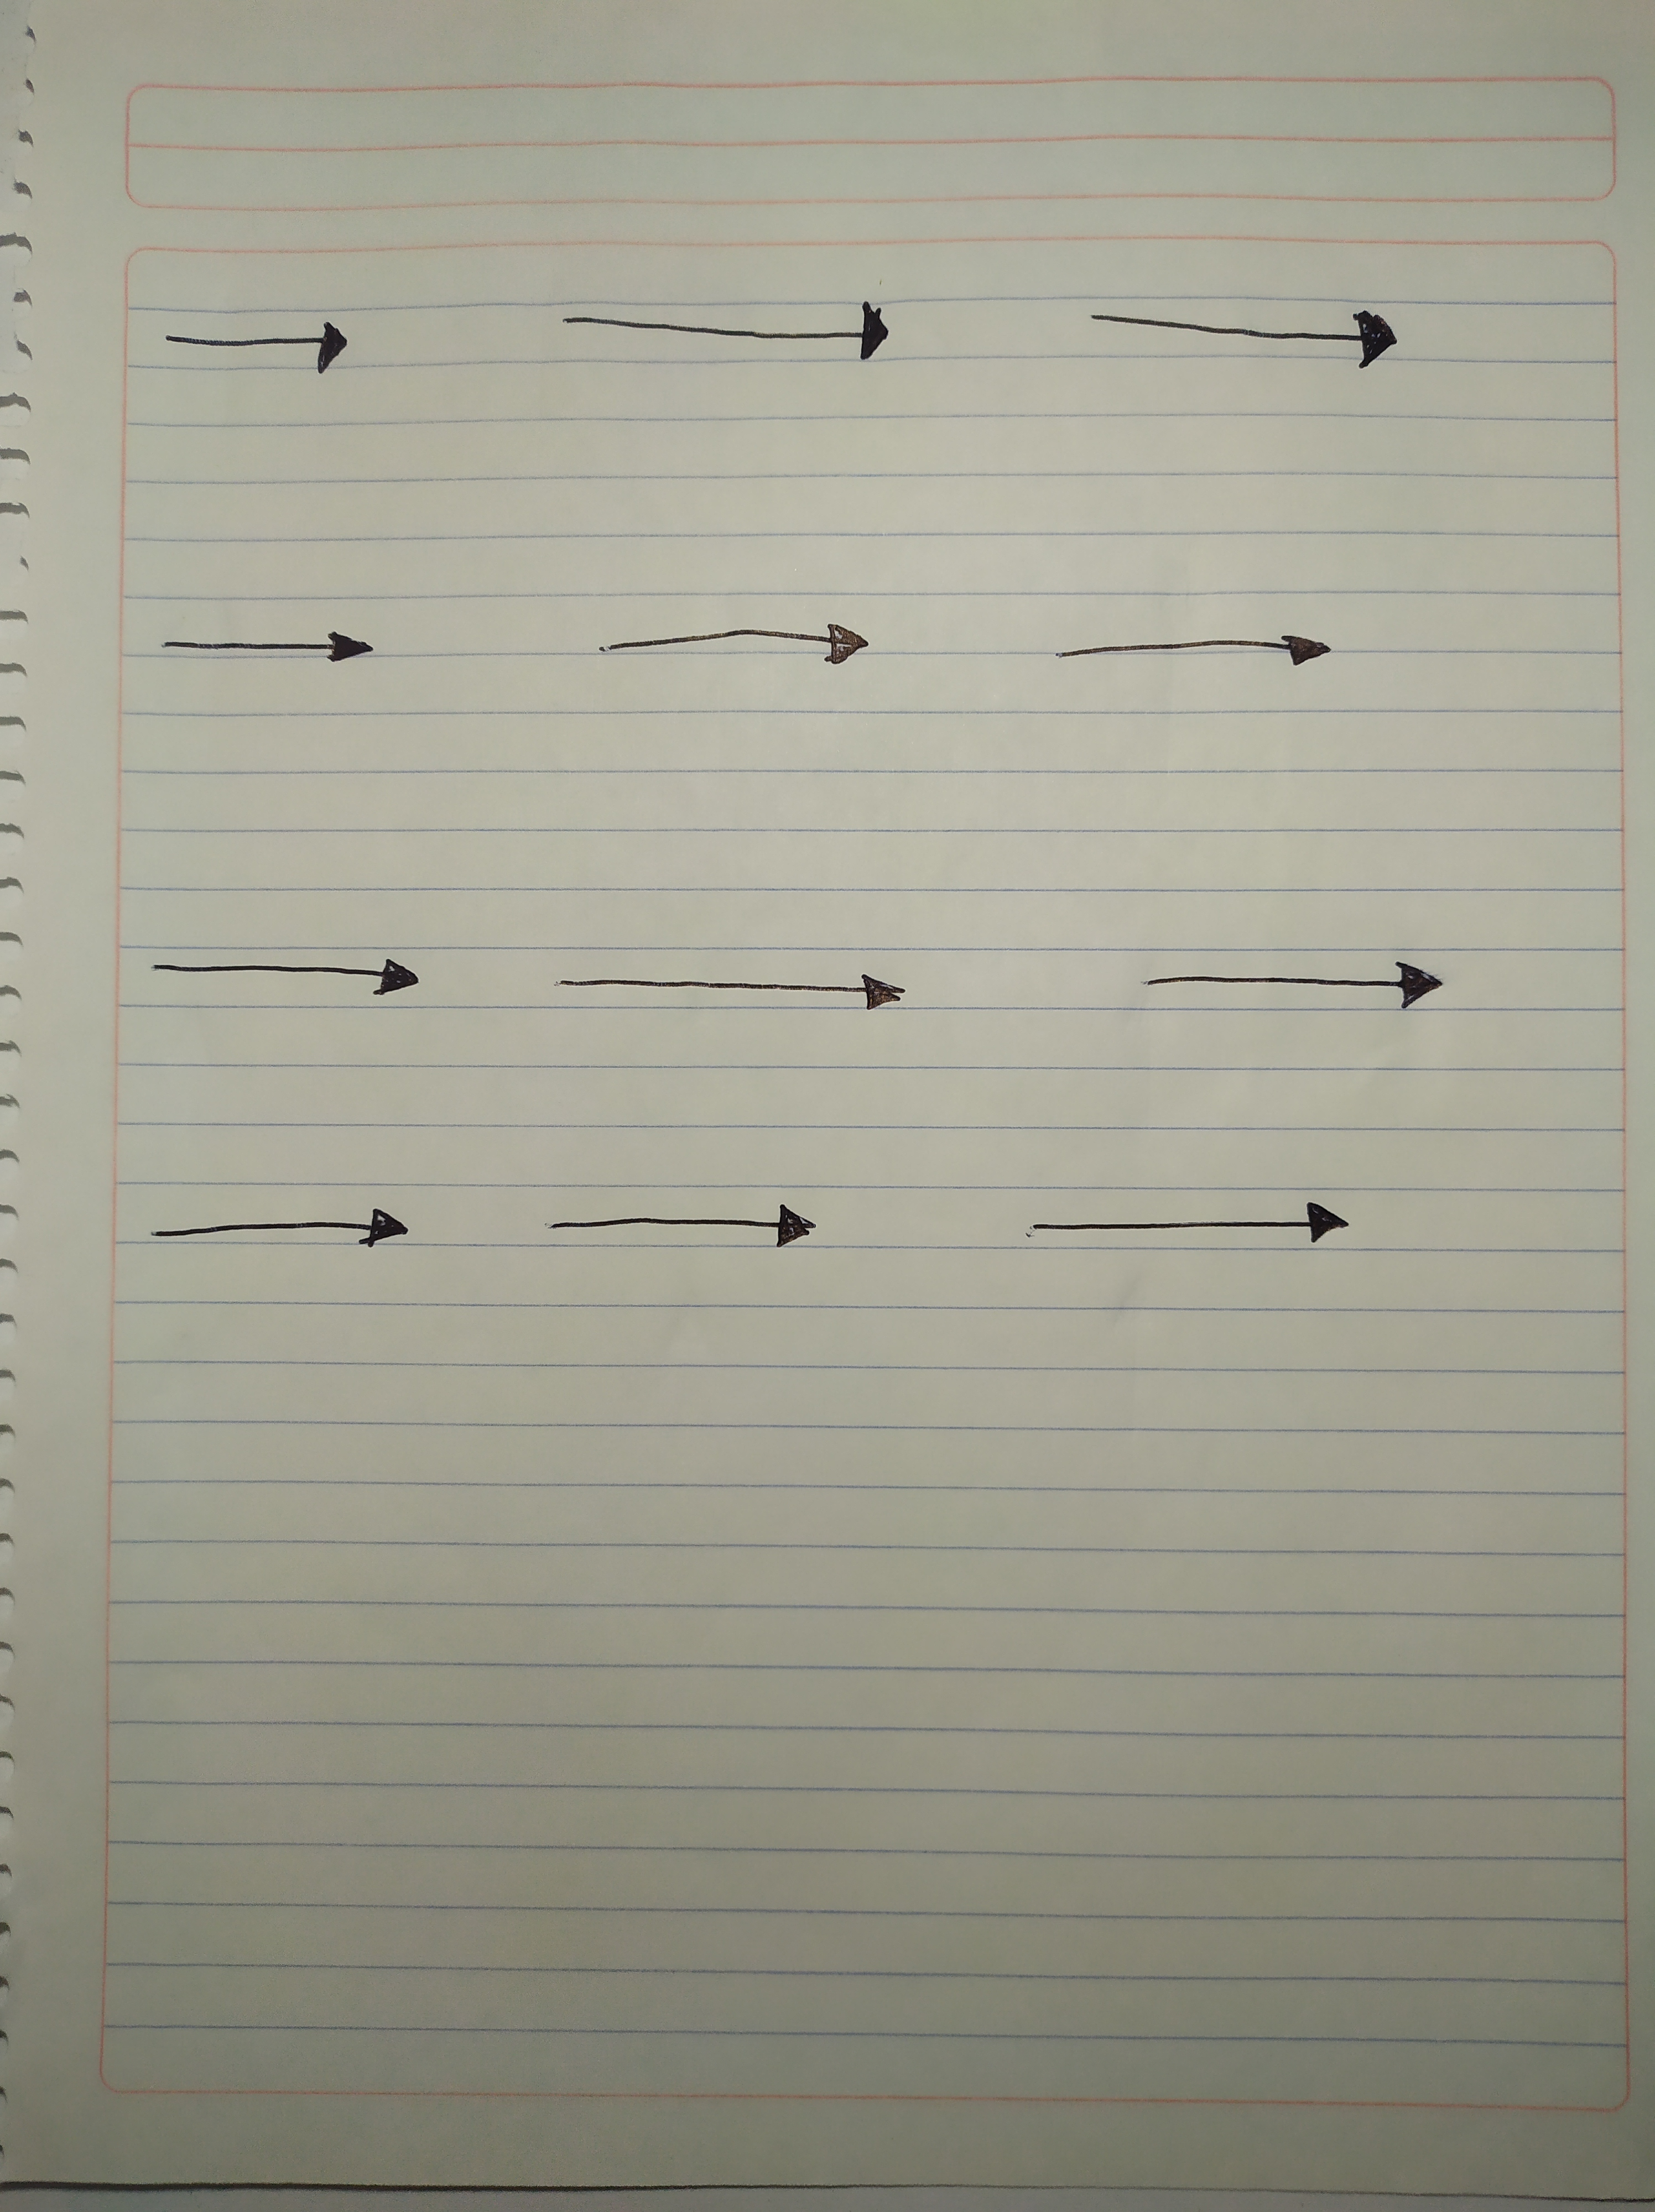arrow_line_right: (522, 275, 951, 398), (563, 594, 932, 716), (1128, 933, 1516, 1046), (535, 940, 934, 1037), (1050, 283, 1432, 382), (1017, 608, 1377, 709), (974, 1183, 1370, 1274), (511, 1175, 838, 1277), (130, 926, 462, 1017), (118, 1175, 438, 1260), (130, 292, 386, 391), (148, 605, 388, 681)
